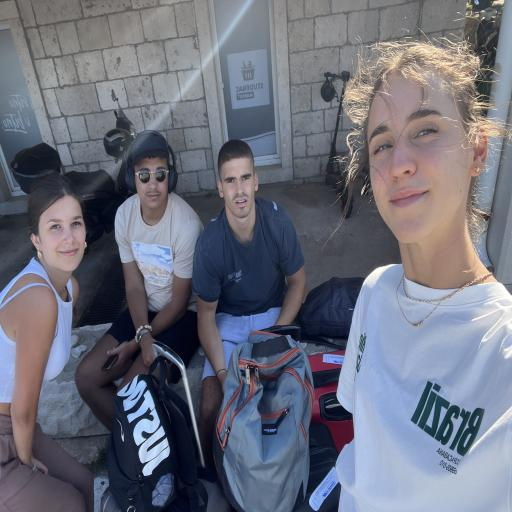masa: (370, 73, 466, 238)
